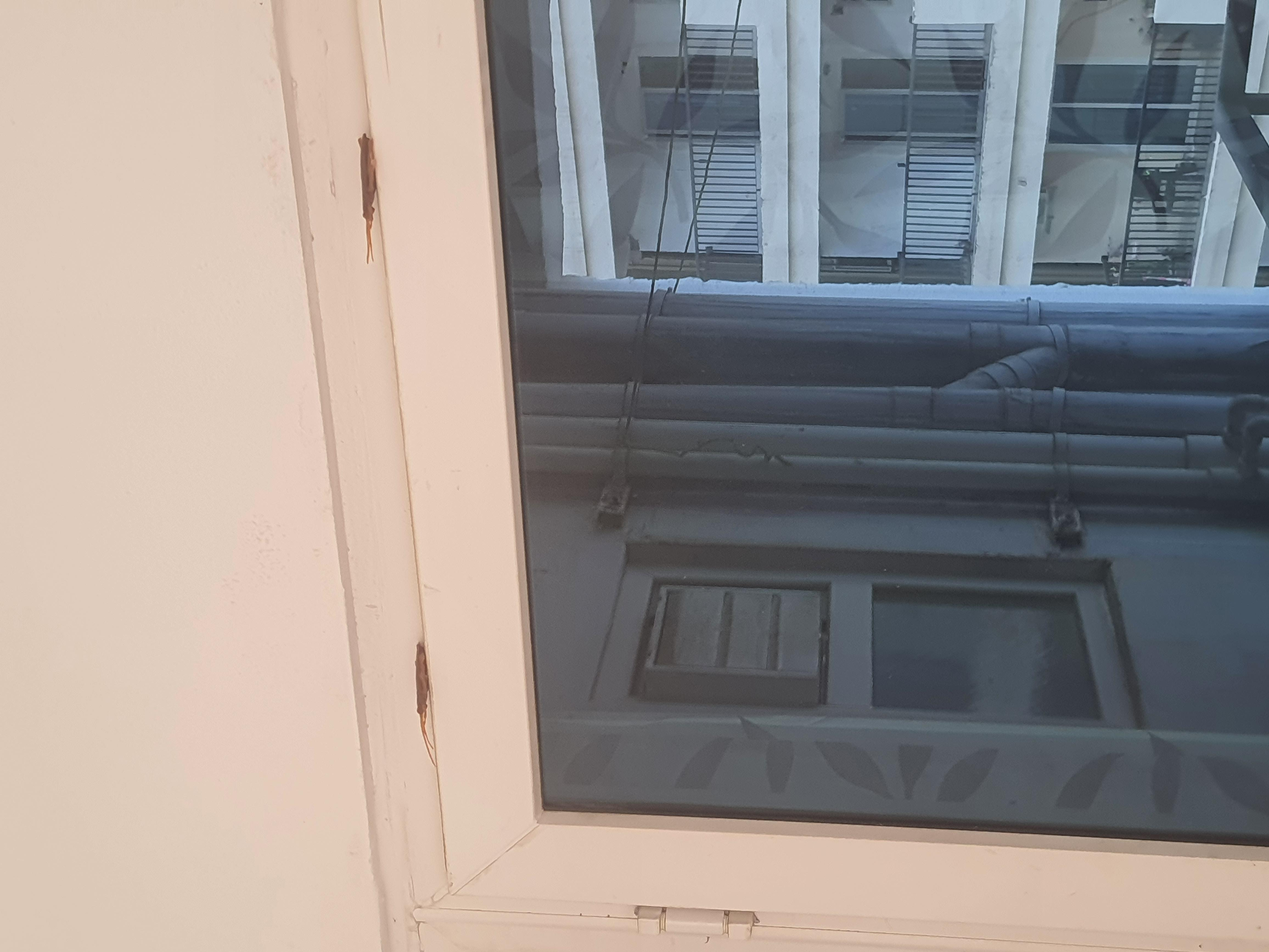cockroach: (235, 297, 454, 327), (887, 256, 1106, 285)
